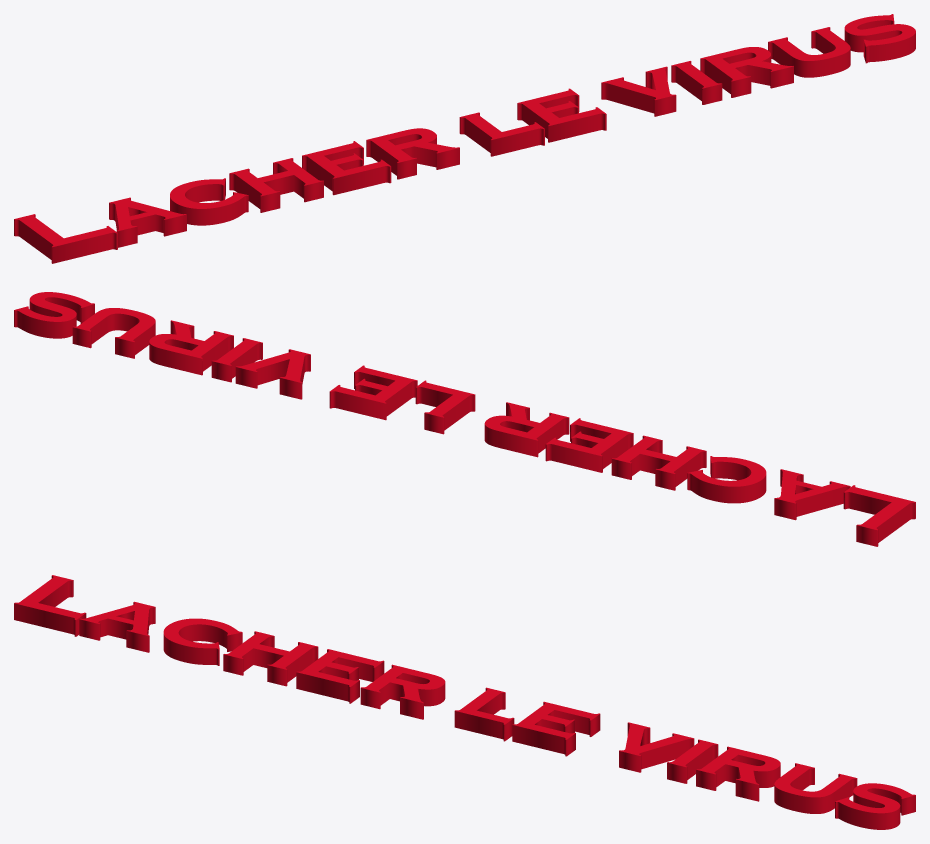
The model's file is IndicatorEndingA.fbx.
3 views of the same model, one above another, from view 1: azimuth 30°, elevation 25°; view 2: azimuth 150°, elevation 25°; view 3: azimuth 330°, elevation 25° (orthographic).
Visible parts, largest first — view 1: EndingA; view 2: EndingA; view 3: EndingA.
Part boxes in pixels (bbox=[...]): EndingA: bbox=[14, 14, 915, 263]; EndingA: bbox=[14, 292, 915, 546]; EndingA: bbox=[14, 575, 915, 829].
Bounding box in the file's own units: 767 × 14 × 61.46.
